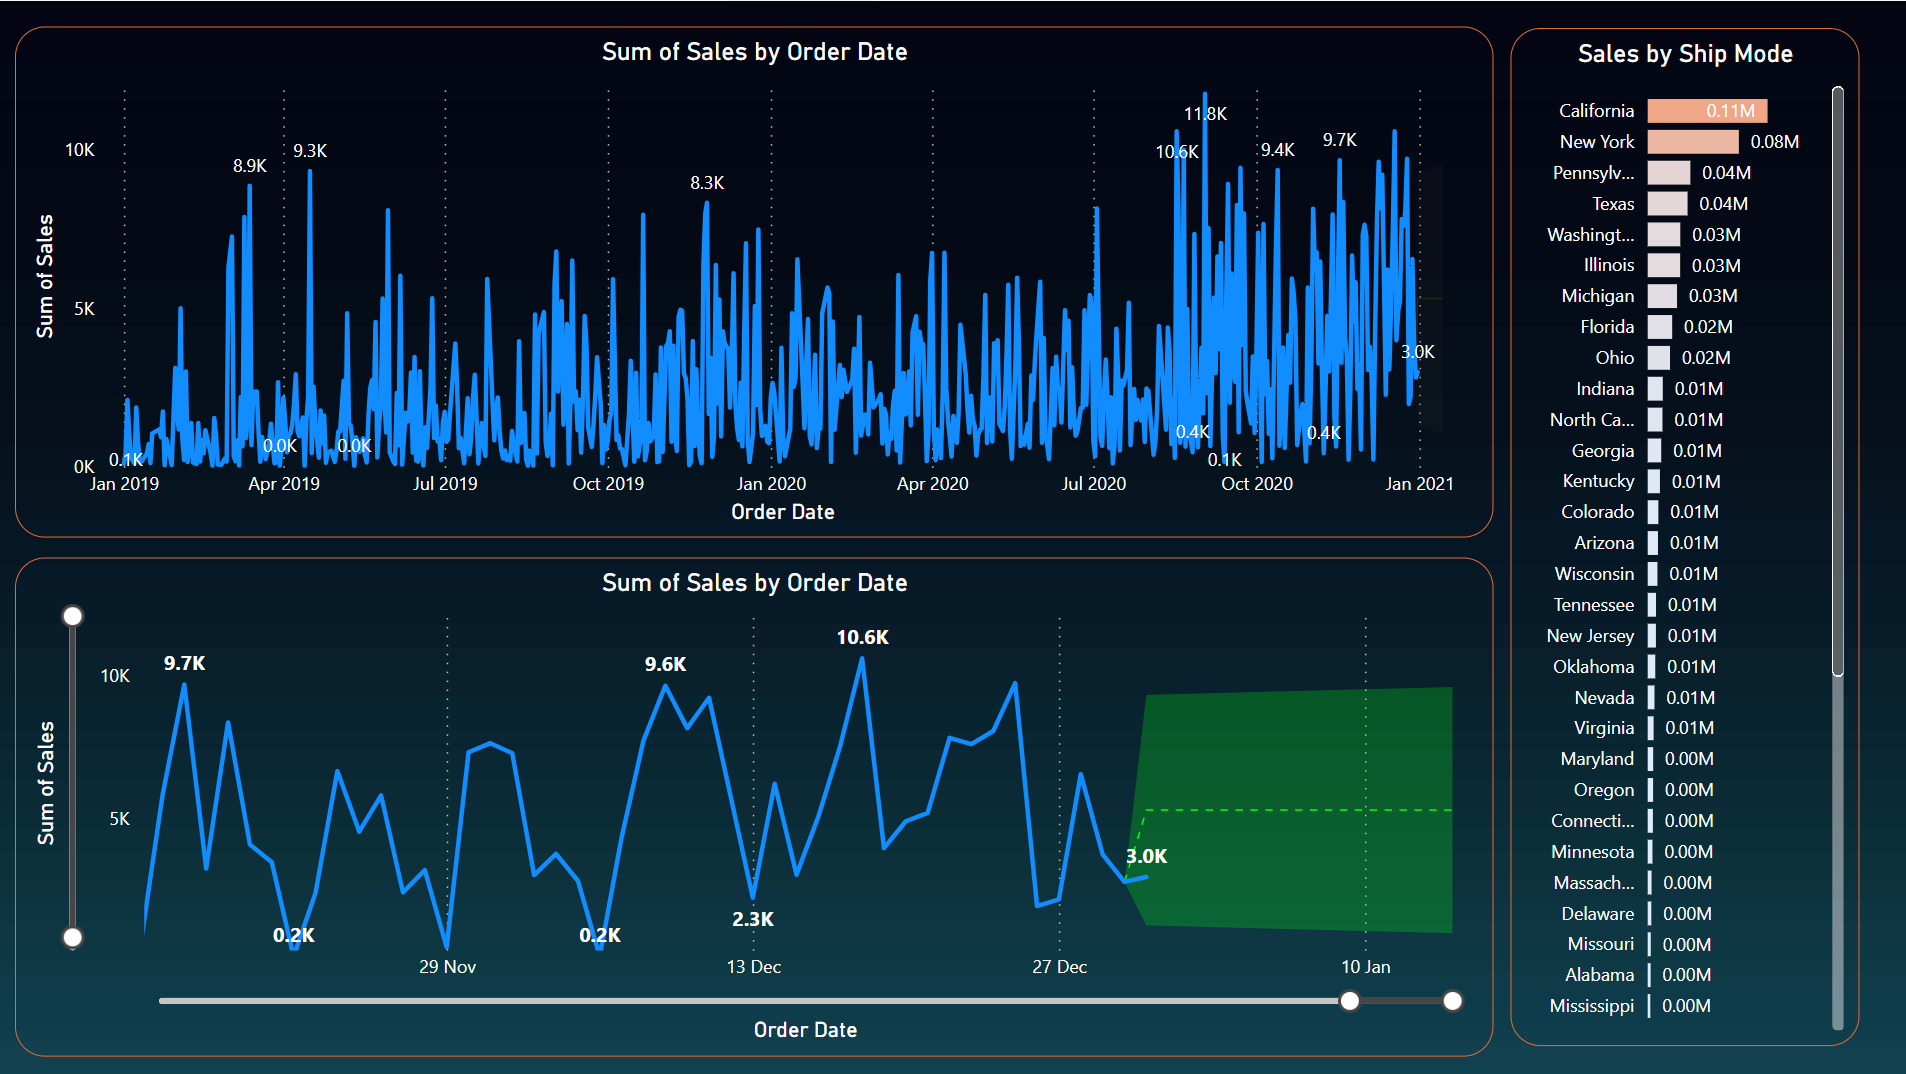

What the dashboard file says about the page in this screenshot:
{"tool":"powerbi","page":{"name":"Page 2","canvas":[1280,720],"ordinal":1},"visuals":[{"type":"lineChart","fields":{"Y":["Sum(SuperStore_Sales_Dataset.Sales)"],"Category":["SuperStore_Sales_Dataset.Order Date"]},"box":[10.4,16.6,991.2,342.9],"z":0},{"type":"lineChart","fields":{"Y":["Sum(SuperStore_Sales_Dataset.Sales)"],"Category":["SuperStore_Sales_Dataset.Order Date"]},"box":[10.4,373,991.2,334.5],"z":1000},{"type":"clusteredBarChart","title":" Sales by Ship Mode","fields":{"Y":["Sum(SuperStore_Sales_Dataset.Sales)"],"Category":["SuperStore_Sales_Dataset.State"]},"box":[1013,17.7,233.8,682.6],"z":2000}]}

Visuals, with their boxes in screenshot pixels (x1, y1, x2, y2), scaled from the page's 1280x720 canvas onto the 1906x1074 screenshot:
lineChart - Sum(SuperStore_Sales_Dataset.Sales) x SuperStore_Sales_Dataset.Order Date: crop(15, 25, 1491, 536)
lineChart - Sum(SuperStore_Sales_Dataset.Sales) x SuperStore_Sales_Dataset.Order Date: crop(15, 556, 1491, 1055)
" Sales by Ship Mode" clusteredBarChart: crop(1508, 26, 1857, 1045)
